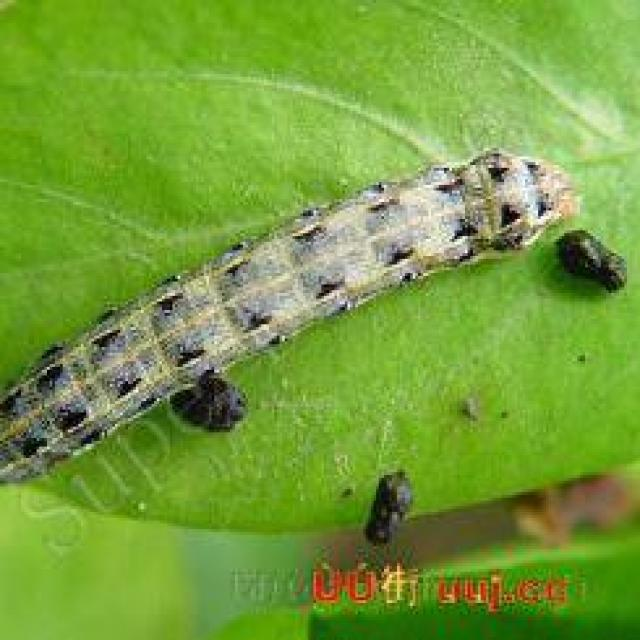armyworm: (1, 134, 603, 511)
